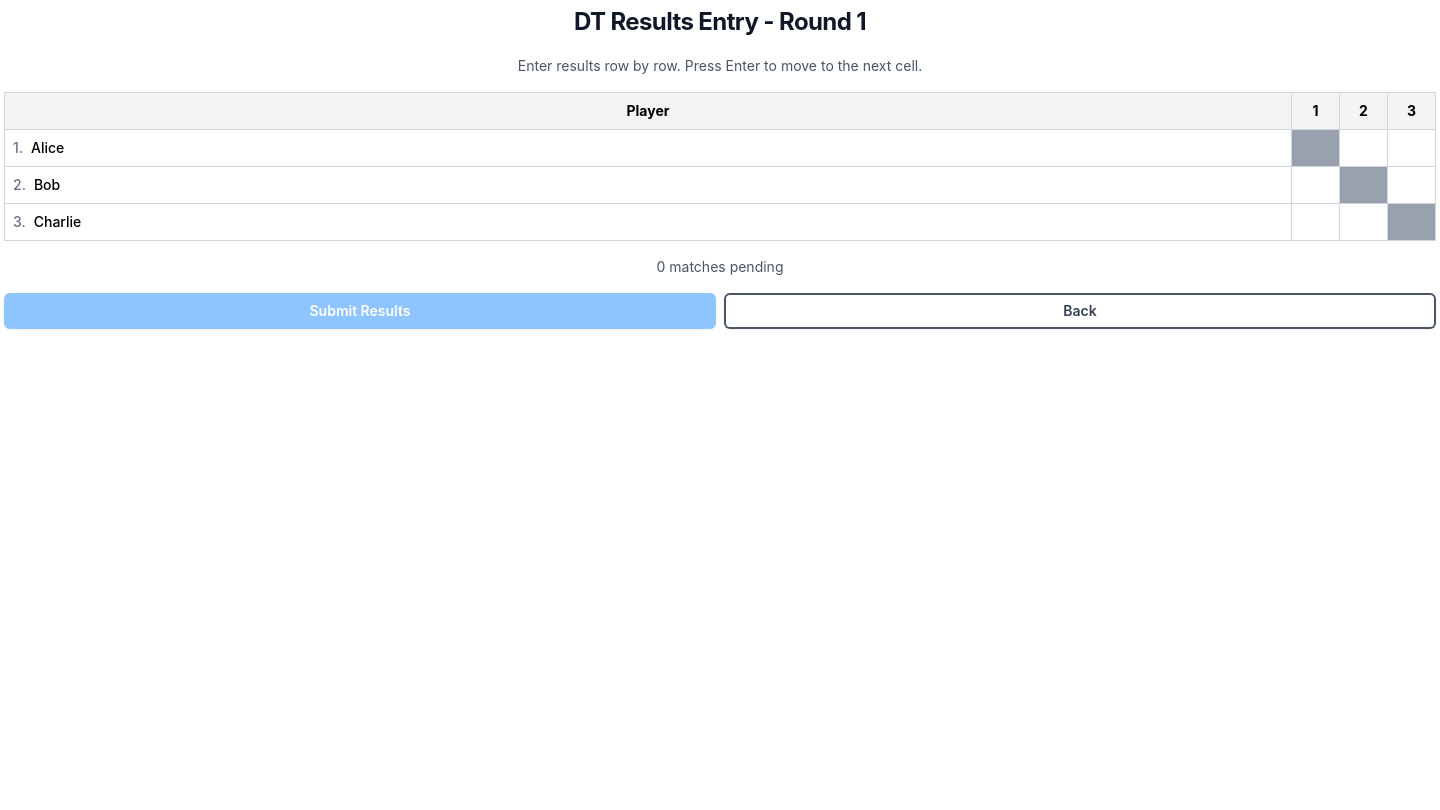
Test: BulkMatchEntry › Draw Detection › should allow canceling winner selection dialog
Enter equal scores
Type "5" into the 1st number field at x=1364, y=148, box [1340,136,1387,160]
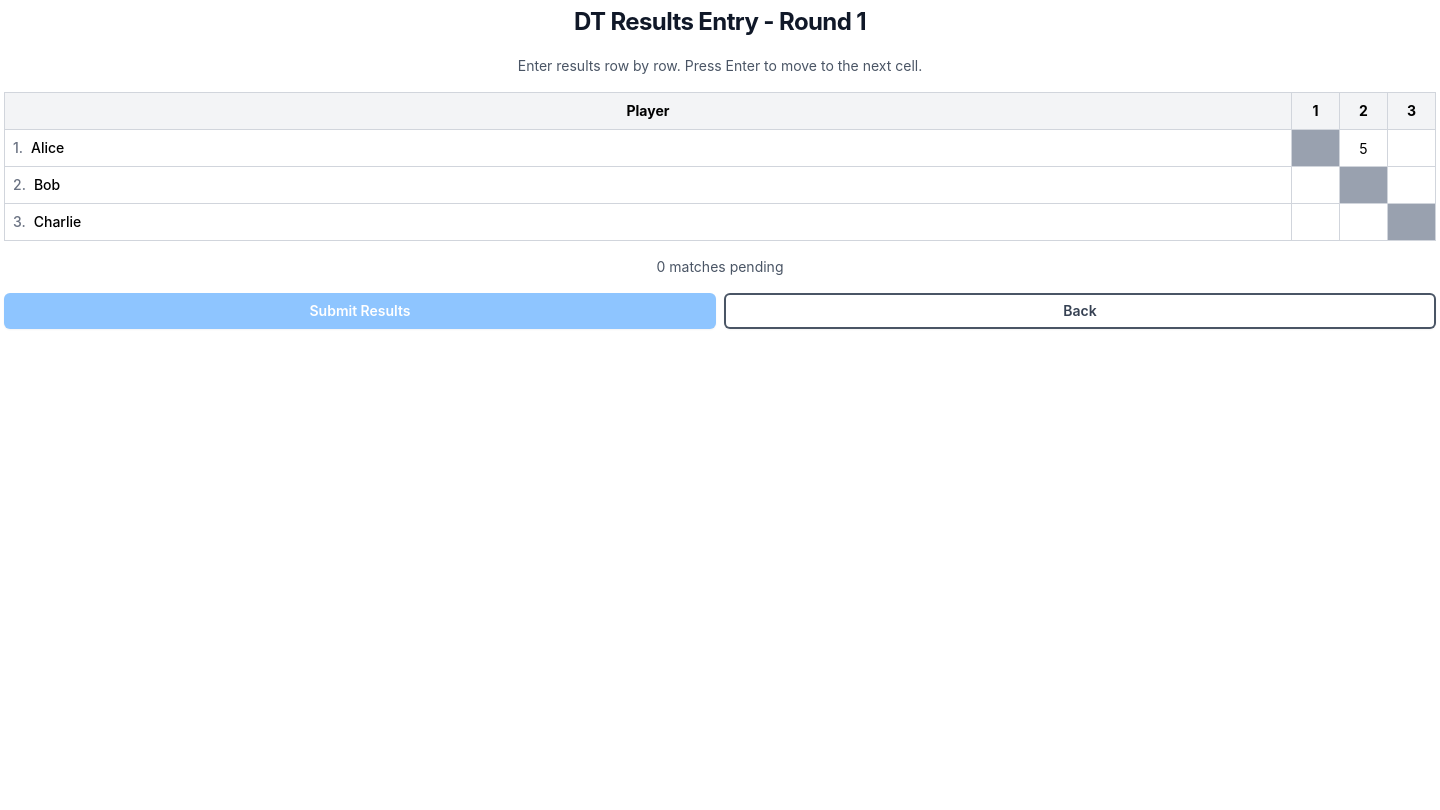
Type "5" into the 3rd number field at x=1316, y=185, box [1292,172,1339,198]
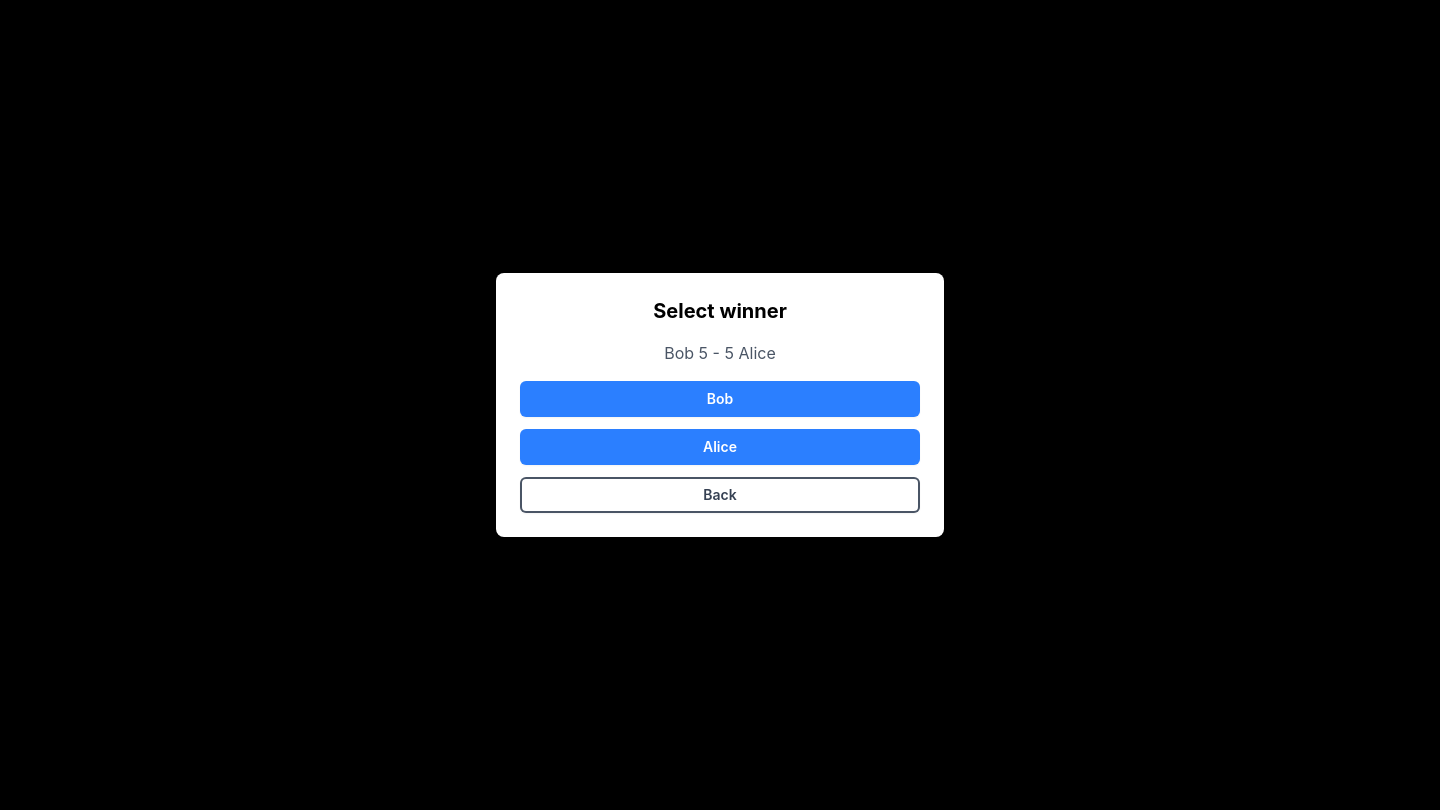
expect the heading "Select winner" is shown: met, box [653,299,787,323]
The dialog Back button is the first one (inside the dialog), main Back button is the second
Click the button "Back" at x=720, y=495, box [520,477,920,513]
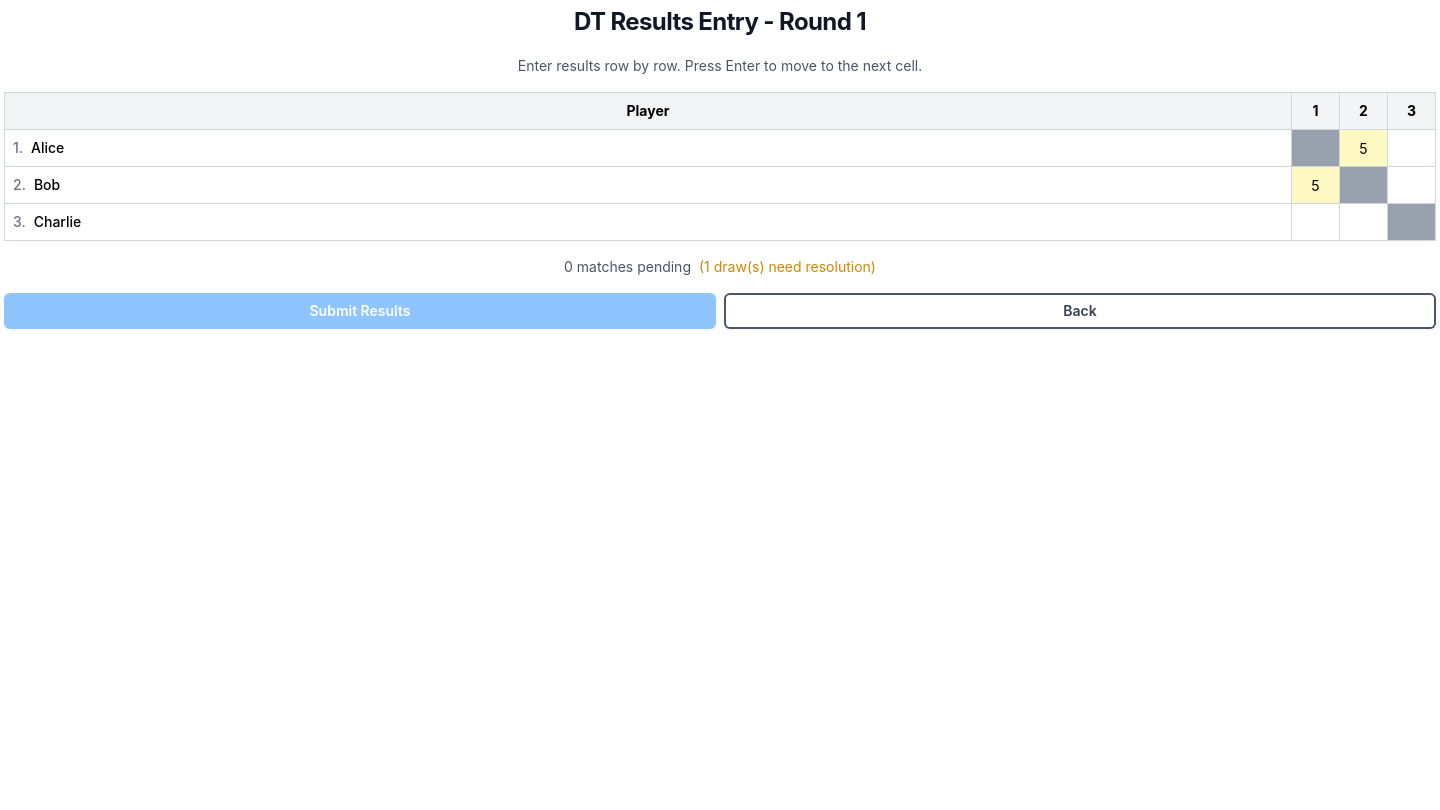
expect the heading "Select winner" is gone: met
